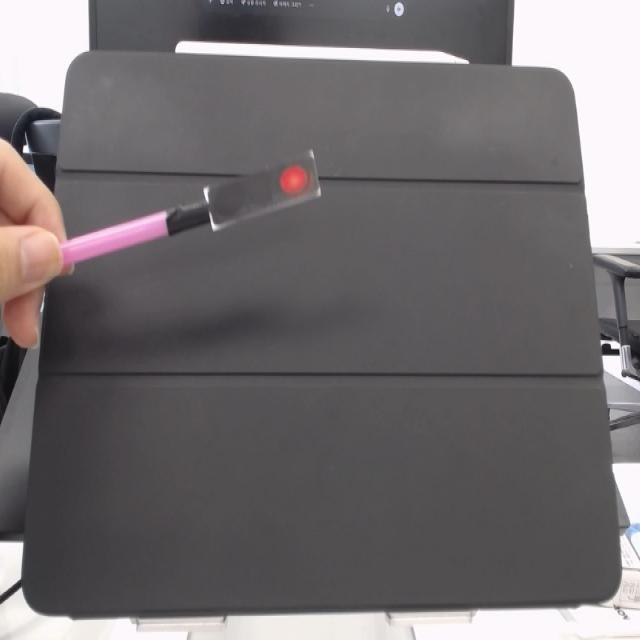traffic light: (209, 149, 322, 228)
